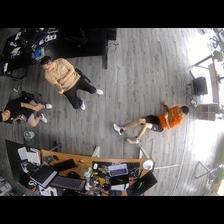fall: (112, 99, 190, 145)
normal: (42, 57, 102, 111)
